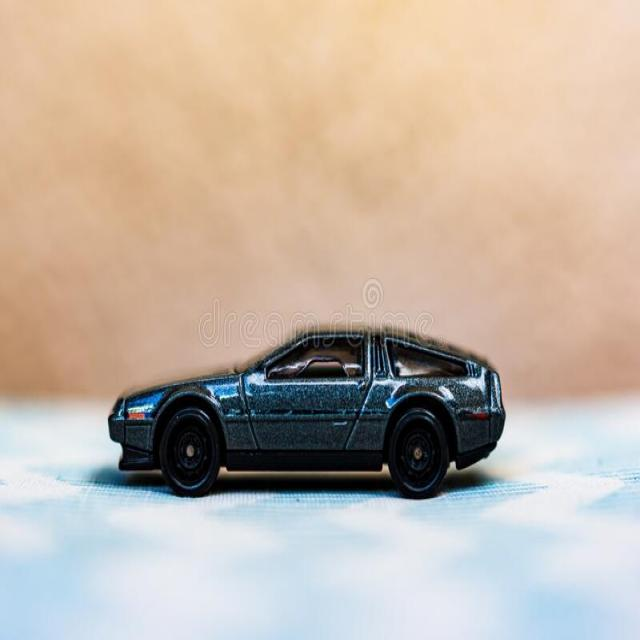Car: (107, 326, 506, 499)
